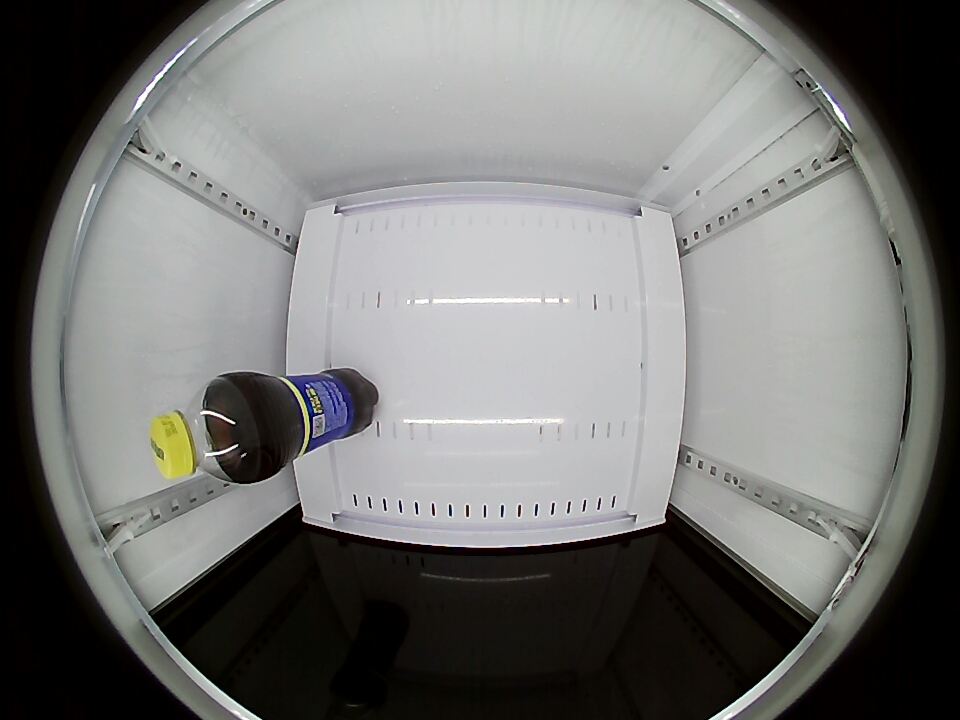baishikele: (150, 377, 260, 484)
